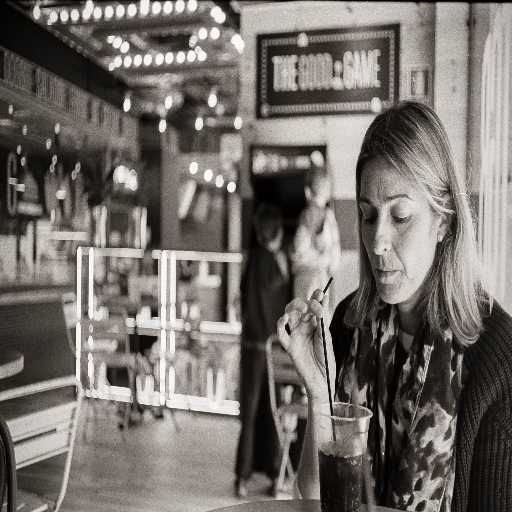hand: (275, 287, 336, 397)
